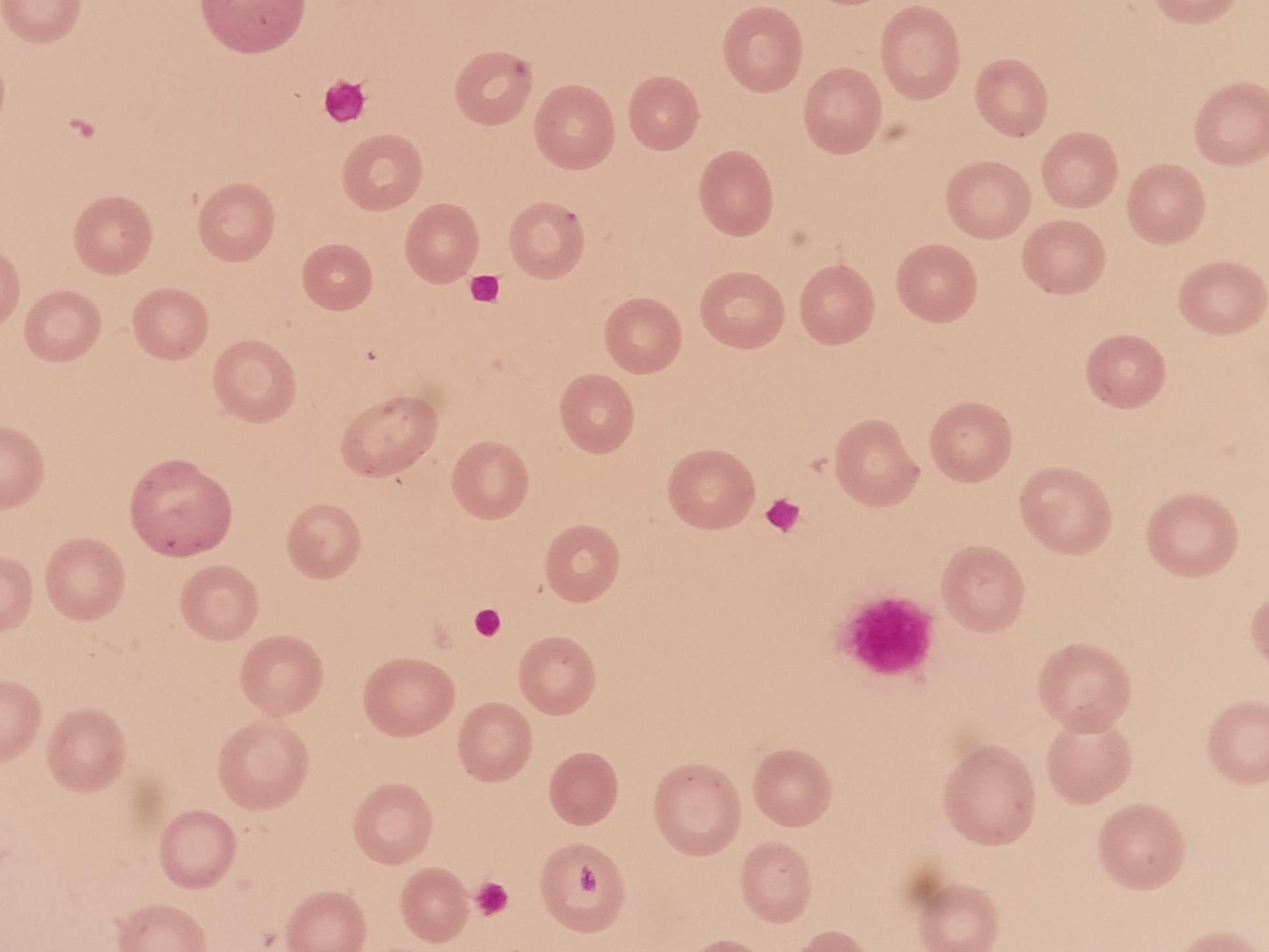Uninfected: (131, 461, 231, 556), (942, 747, 1035, 843), (1037, 645, 1131, 734), (218, 722, 310, 811), (1018, 466, 1110, 552), (653, 765, 740, 854), (1145, 493, 1238, 576), (342, 396, 437, 477), (834, 420, 922, 507), (540, 845, 625, 933), (1098, 804, 1184, 890), (940, 546, 1026, 631), (535, 83, 617, 172), (363, 658, 455, 737), (880, 6, 959, 96), (211, 340, 296, 423), (238, 636, 324, 717), (667, 450, 754, 530), (1175, 260, 1266, 335), (723, 7, 803, 92), (352, 784, 433, 866), (929, 403, 1012, 483), (45, 538, 125, 621), (803, 69, 882, 153), (896, 244, 978, 324), (47, 710, 126, 793), (698, 150, 774, 236), (699, 272, 782, 350), (946, 161, 1029, 238), (1046, 727, 1129, 804), (752, 749, 832, 828), (453, 48, 532, 127), (198, 182, 277, 261), (450, 442, 530, 520), (157, 811, 235, 891), (342, 134, 423, 211), (1022, 219, 1104, 295), (1085, 334, 1167, 410), (1193, 82, 1269, 164), (405, 201, 477, 286), (74, 196, 152, 274), (518, 637, 596, 715), (799, 265, 875, 345), (1040, 132, 1118, 209), (543, 525, 620, 603), (1127, 163, 1205, 240), (603, 297, 680, 374), (559, 374, 635, 452), (180, 565, 259, 640), (740, 843, 813, 923), (509, 202, 583, 279), (458, 704, 532, 781), (627, 74, 700, 151), (24, 290, 101, 363), (975, 59, 1048, 135), (132, 288, 209, 360), (286, 505, 360, 579), (398, 868, 471, 943), (547, 752, 619, 827), (917, 885, 997, 952), (203, 1, 302, 53), (1206, 701, 1269, 781), (302, 244, 373, 312), (284, 891, 362, 951), (117, 905, 203, 951)
